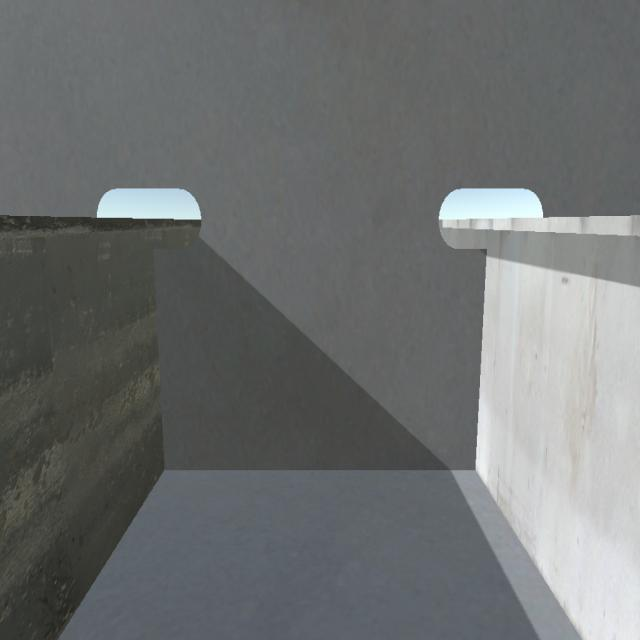fillet_yong_jeop_jang: (162, 458, 484, 482)
longi_yong_jeop_jang: (146, 249, 175, 485), (469, 242, 486, 479)
